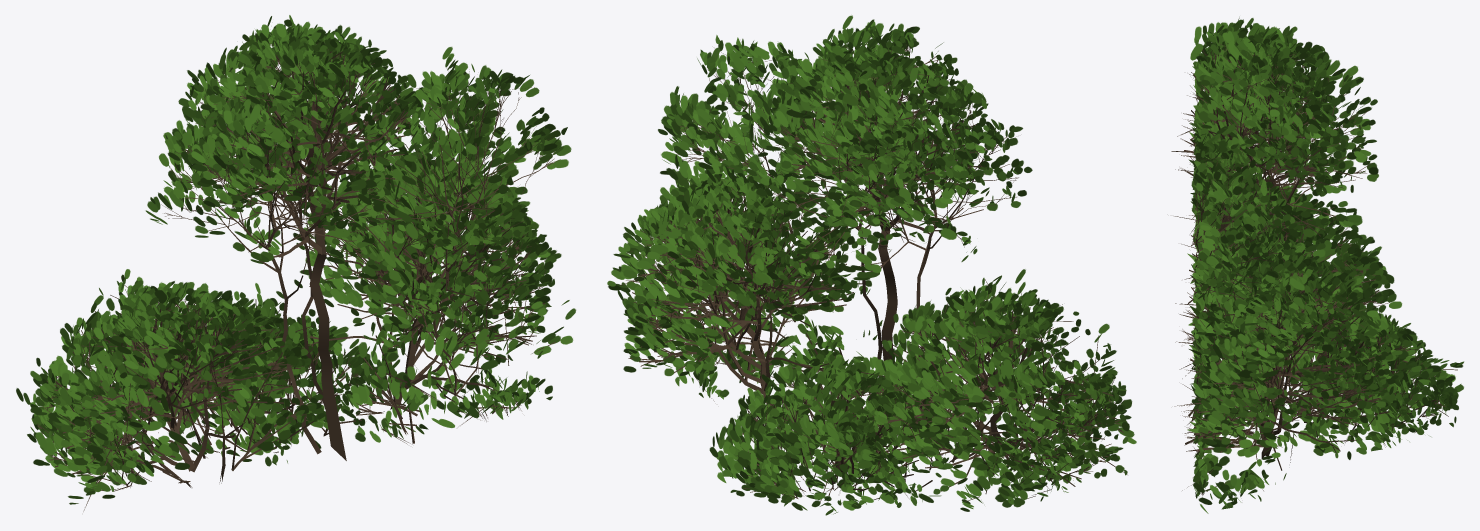
The picture shows the model from 3 angles, left to right: view 1: azimuth 30°, elevation 25°; view 2: azimuth 150°, elevation 25°; view 3: azimuth 270°, elevation 25°; orthographic projection. The views are drawn at different scales.
Visible parts, largest first — view 1: oak 01.001_trunk_Mat.001_0.389; view 2: oak 01.001_trunk_Mat.001_0.389; view 3: oak 01.001_trunk_Mat.001_0.389.
Boxes of the visible parts, <box> form: oak 01.001_trunk_Mat.001_0.389: <box>16,15,576,511</box>; oak 01.001_trunk_Mat.001_0.389: <box>607,15,1136,515</box>; oak 01.001_trunk_Mat.001_0.389: <box>1171,17,1464,513</box>.
Size of the model in its own units: 6.38 by 5.09 by 3.43.
2 materials, 1 textured.
